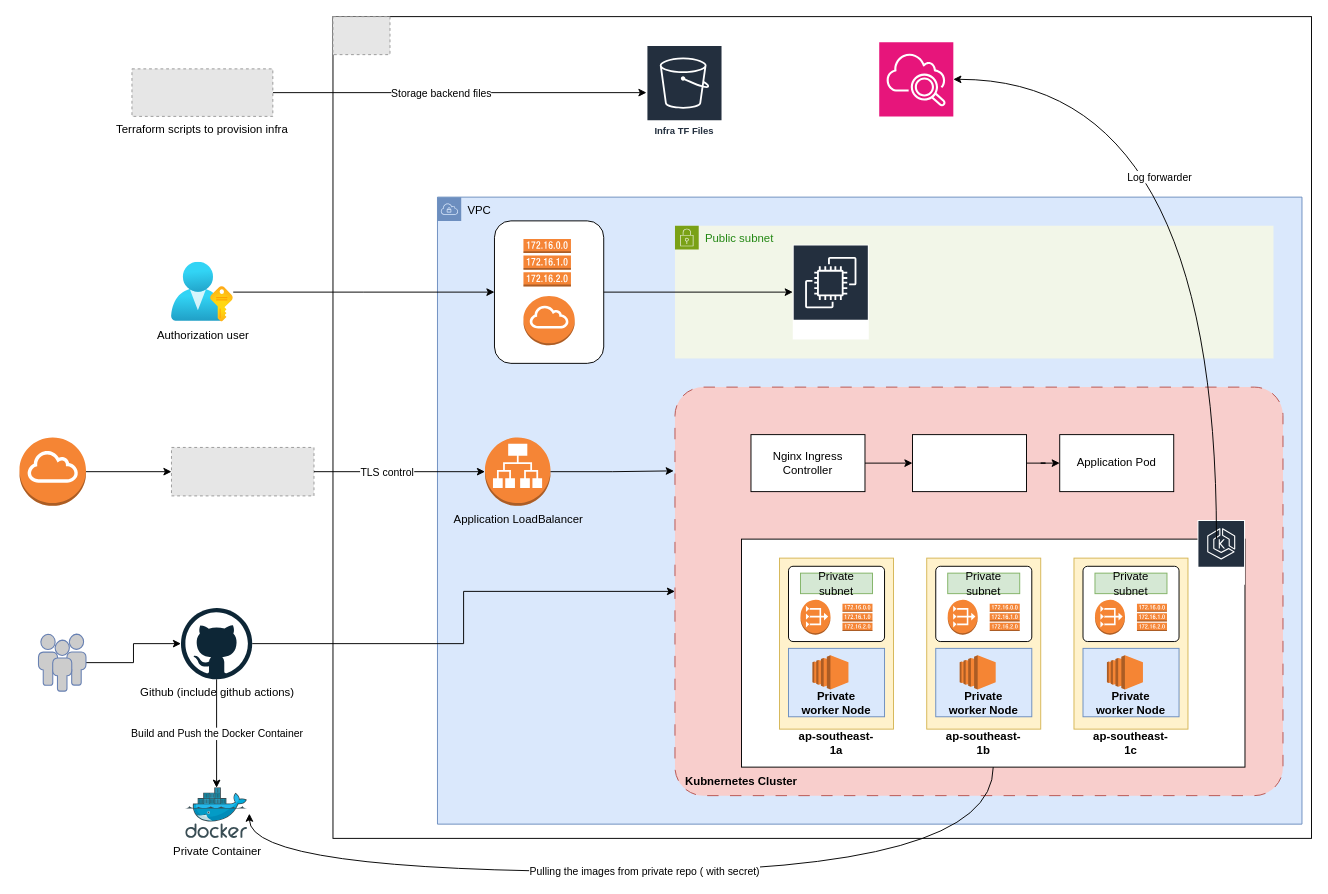
Image size: 1328x894. Some labels were removed from this diagram. Grey dashed boxes stand in for pictures. The centre of each missing label's shape, as x and y in pixels:
"Amazon EKS" belongs at point (1221, 552).
"Backend Container SVC" belongs at point (969, 463).
"Bastion" belongs at point (830, 292).
"Cloudwatch Logs" belongs at point (915, 78).
"Developers" belongs at point (61, 662).
"Public Internet" belongs at point (52, 471).
